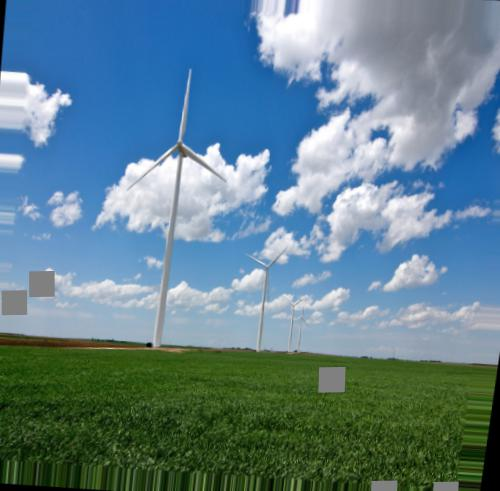wind turbine: (125, 68, 226, 348), (242, 242, 291, 351), (291, 303, 314, 354)
